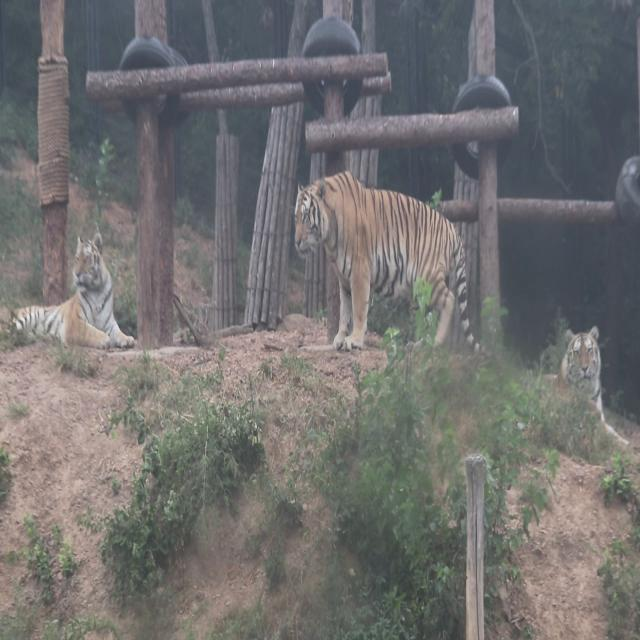Tiger: (283, 165, 486, 358), (8, 224, 152, 380)
